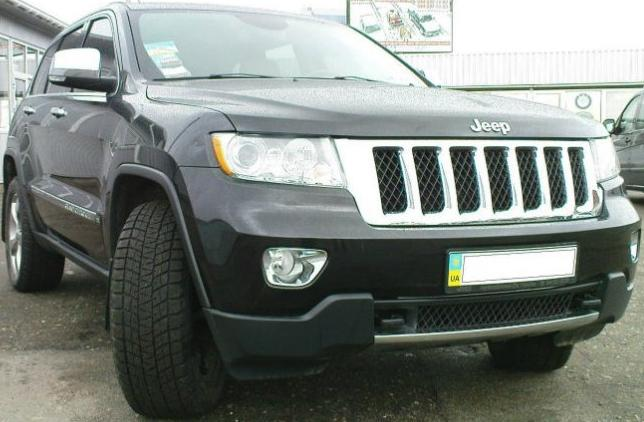front_view: (200, 120, 642, 348)
headlight: (206, 130, 351, 192)
